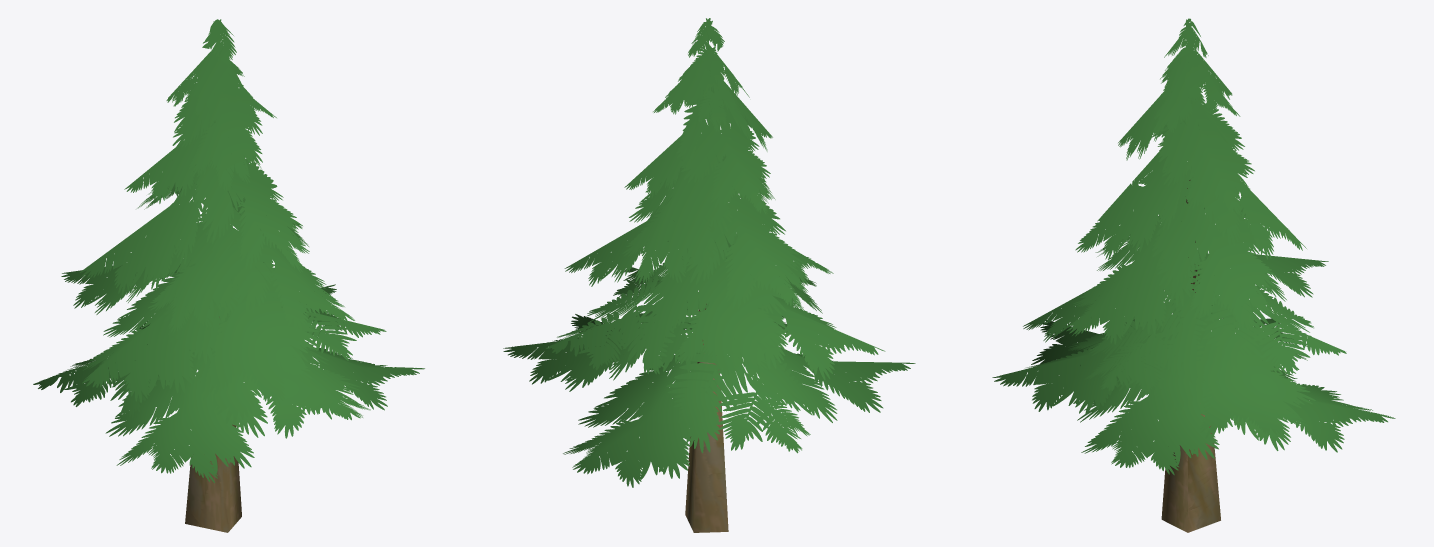
The model's file is m_env_collect_tree_cedar_01_lod2.fbx.
3 views of the same model, side by side, from view 1: azimuth 30°, elevation 25°; view 2: azimuth 150°, elevation 25°; view 3: azimuth 270°, elevation 25° (orthographic).
Visible parts, largest first — view 1: m_env_collect_tree_cedar_01_lod2; view 2: m_env_collect_tree_cedar_01_lod2; view 3: m_env_collect_tree_cedar_01_lod2.
Boxes of the visible parts, <box> form: m_env_collect_tree_cedar_01_lod2: <box>33,19,424,532</box>; m_env_collect_tree_cedar_01_lod2: <box>503,18,915,532</box>; m_env_collect_tree_cedar_01_lod2: <box>992,18,1395,532</box>.
Bounding box in the file's own units: 707 × 936 × 759.
